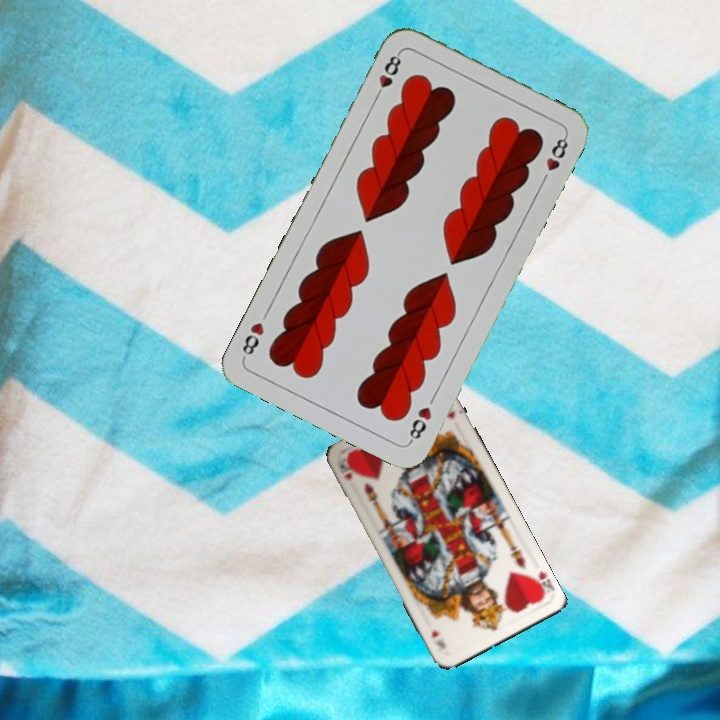H8: (370, 48, 404, 103), (404, 402, 435, 446)
HK: (526, 567, 556, 601), (336, 456, 356, 483)
